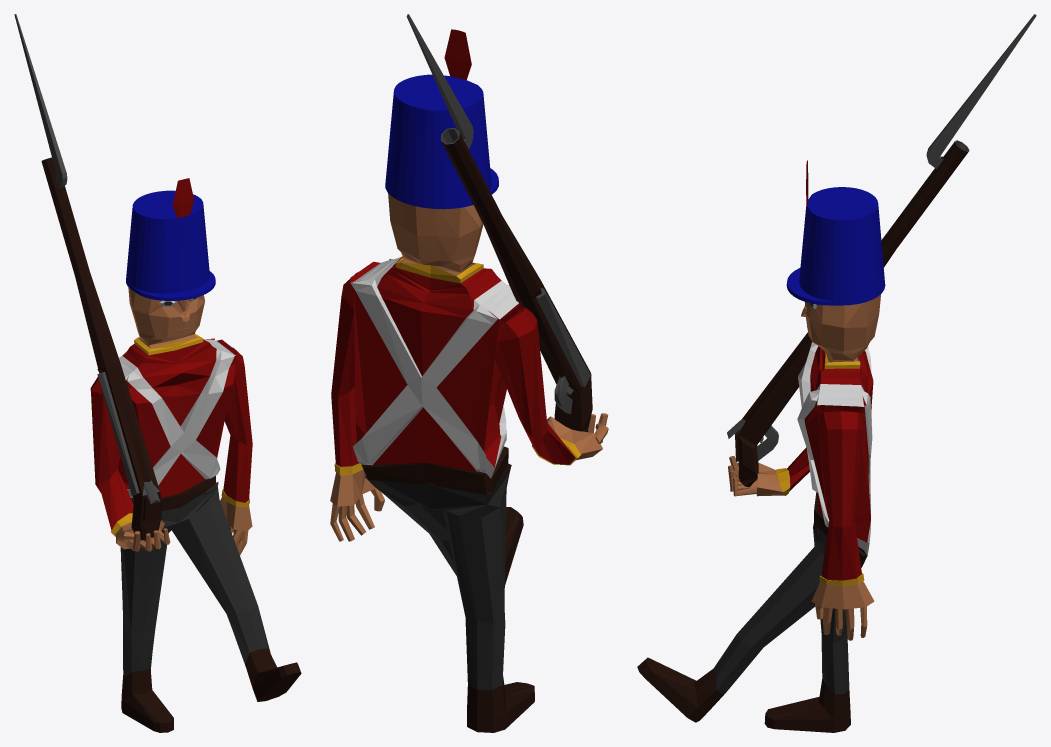
File: Infantry_000091.obj
3 renders of one model, left to right at view 1: azimuth 30°, elevation 25°; view 2: azimuth 150°, elevation 25°; view 3: azimuth 270°, elevation 25°, orthographic. The views are drawn at different scales.
Visible parts, largest first — view 1: {Man}_Circle, {Mesket}_Cube.001; view 2: {Man}_Circle, {Mesket}_Cube.001; view 3: {Man}_Circle, {Mesket}_Cube.001.
Part boxes in pixels (<box>): {Man}_Circle: <box>90,178,301,732</box>; {Mesket}_Cube.001: <box>14,14,161,540</box>; {Man}_Circle: <box>330,29,608,732</box>; {Mesket}_Cube.001: <box>406,14,592,432</box>; {Man}_Circle: <box>637,160,885,732</box>; {Mesket}_Cube.001: <box>727,14,1036,487</box>.
Size of the model in its own units: 5.63 by 19.64 by 10.23.
